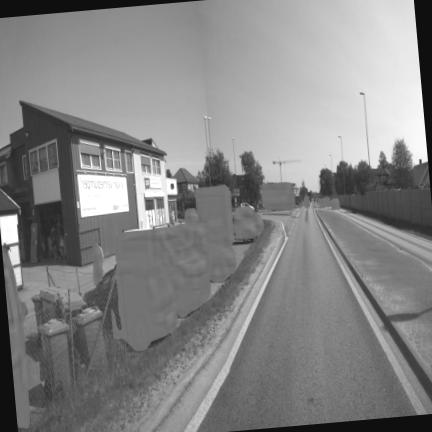Road: (198, 209, 413, 431)
